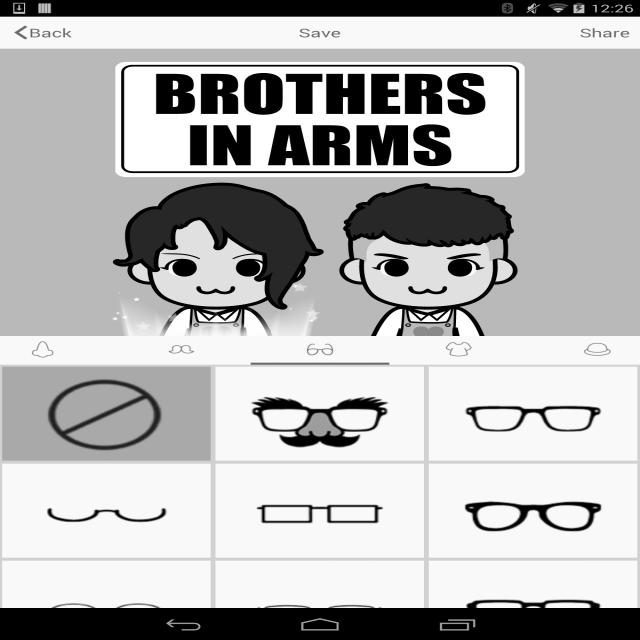Button: (6, 19, 72, 46), (580, 19, 630, 46), (298, 19, 340, 46)
ImageView: (2, 366, 211, 461), (215, 366, 424, 461), (2, 463, 211, 558), (215, 463, 424, 558), (429, 366, 637, 461), (429, 463, 637, 558), (428, 560, 637, 640), (2, 560, 210, 640), (215, 560, 423, 640), (0, 362, 640, 364), (301, 338, 339, 361), (24, 338, 61, 361), (163, 338, 200, 361), (440, 338, 477, 361), (579, 338, 616, 361), (0, 365, 640, 365)
TextView: (112, 343, 251, 356), (389, 343, 528, 356), (251, 343, 389, 356), (0, 343, 112, 356), (528, 343, 640, 356)
